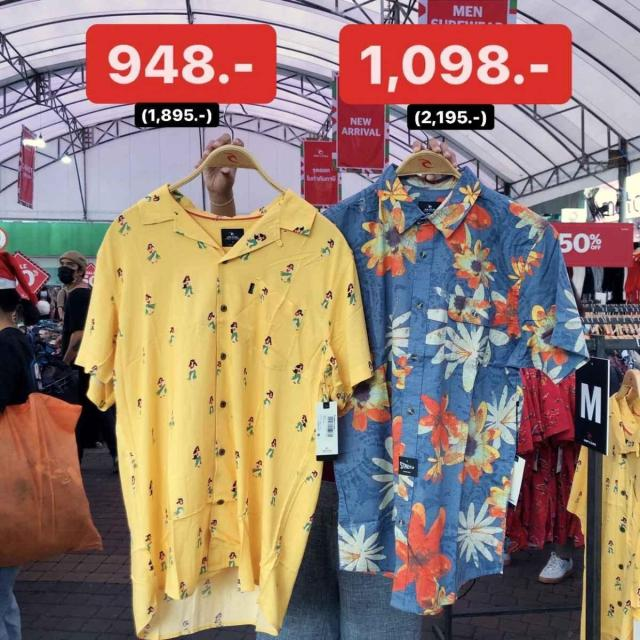shirt: (77, 188, 336, 635), (329, 180, 576, 610)
